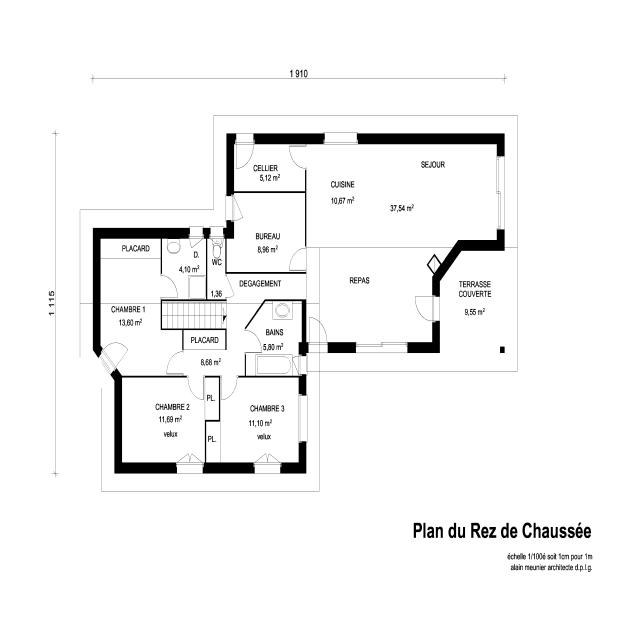door: (162, 238, 208, 300), (412, 292, 440, 324), (306, 312, 330, 348), (234, 137, 256, 170), (286, 142, 310, 172), (224, 192, 243, 223), (287, 245, 308, 273), (164, 349, 184, 375), (160, 272, 179, 298), (220, 374, 238, 400), (244, 330, 262, 355), (187, 375, 204, 400), (289, 352, 306, 374), (188, 232, 204, 254), (223, 275, 236, 299)
window: (493, 152, 507, 237), (353, 338, 411, 354), (321, 130, 361, 146), (298, 392, 309, 448), (173, 461, 204, 472), (252, 462, 282, 471)
zone: (305, 144, 494, 264), (119, 376, 208, 467), (217, 377, 302, 466), (98, 256, 163, 370), (229, 192, 306, 274), (249, 299, 304, 376), (234, 143, 306, 194), (162, 239, 208, 299), (183, 329, 226, 375), (100, 238, 161, 262), (206, 237, 226, 300), (202, 300, 226, 329)
